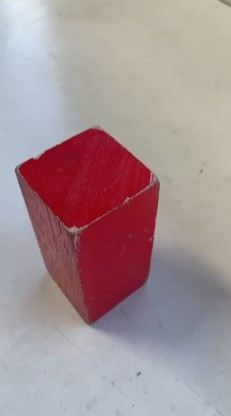red: (26, 113, 182, 335)
